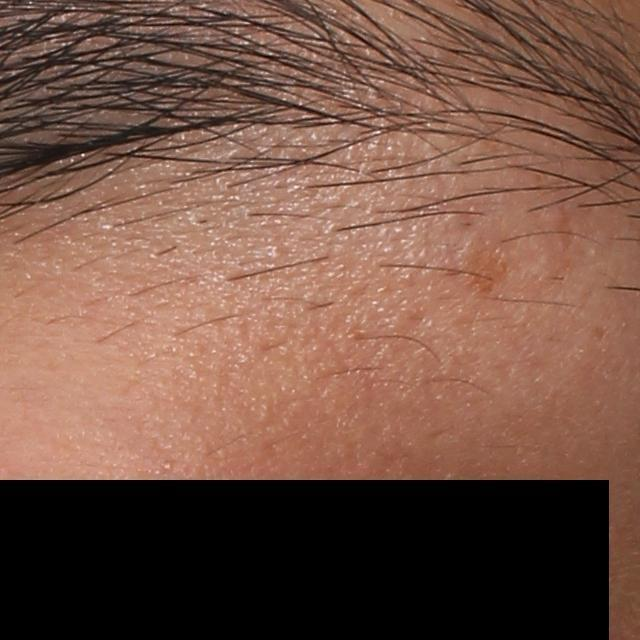melasma: (449, 241, 508, 302)
